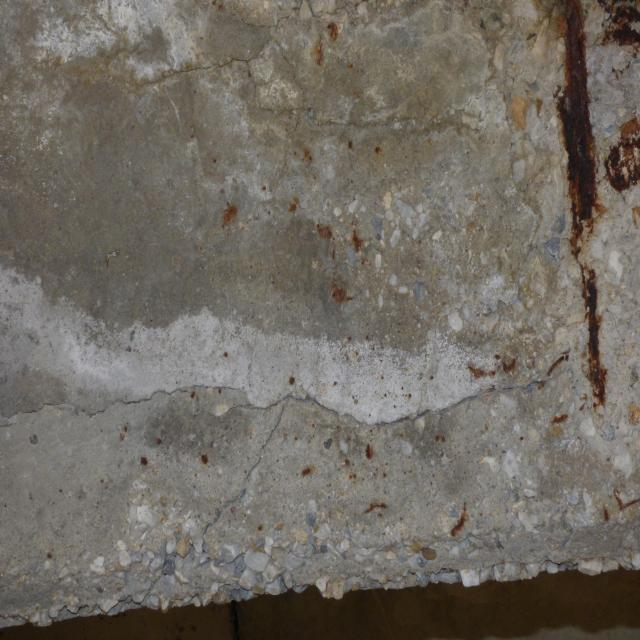corrosion: (467, 0, 639, 531), (96, 367, 470, 570), (202, 0, 402, 319)
